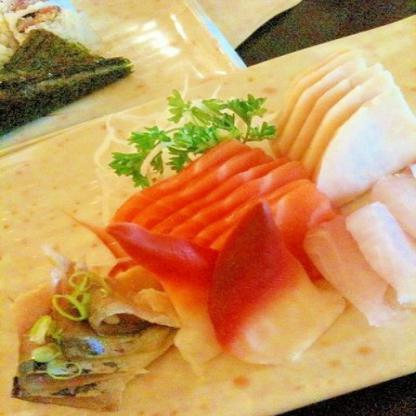salmon: (124, 152, 332, 262)
